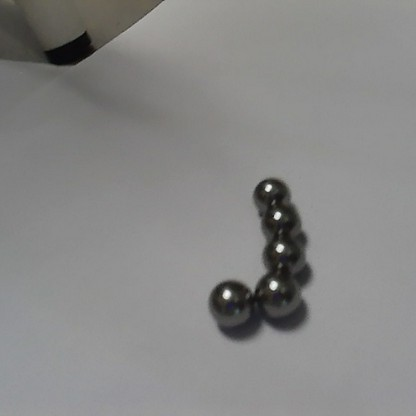ironball: (205, 278, 258, 331), (260, 230, 310, 279), (256, 269, 301, 320), (260, 200, 303, 240), (246, 170, 289, 204)
